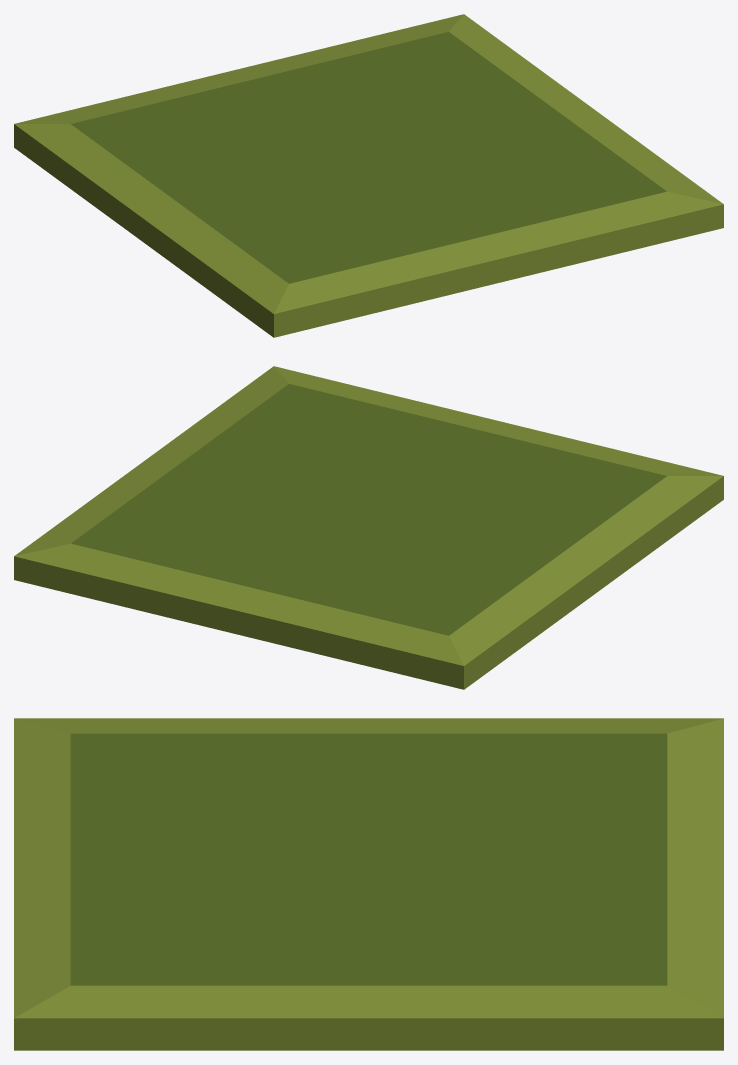
The model's file is spawn_block.fbx.
The picture shows the model from 3 angles, top to bottom: view 1: azimuth 30°, elevation 25°; view 2: azimuth 150°, elevation 25°; view 3: azimuth 270°, elevation 25°; orthographic projection. The views are drawn at different scales.
Parts seen in each view (by area): view 1: Cube; view 2: Cube; view 3: Cube.
Part boxes in pixels (box(x1,y1,x2,y2)): Cube: box(14, 14, 723, 337); Cube: box(14, 366, 723, 689); Cube: box(14, 718, 723, 1050).
Bounding box in the file's own units: 2000 × 2000 × 127.
